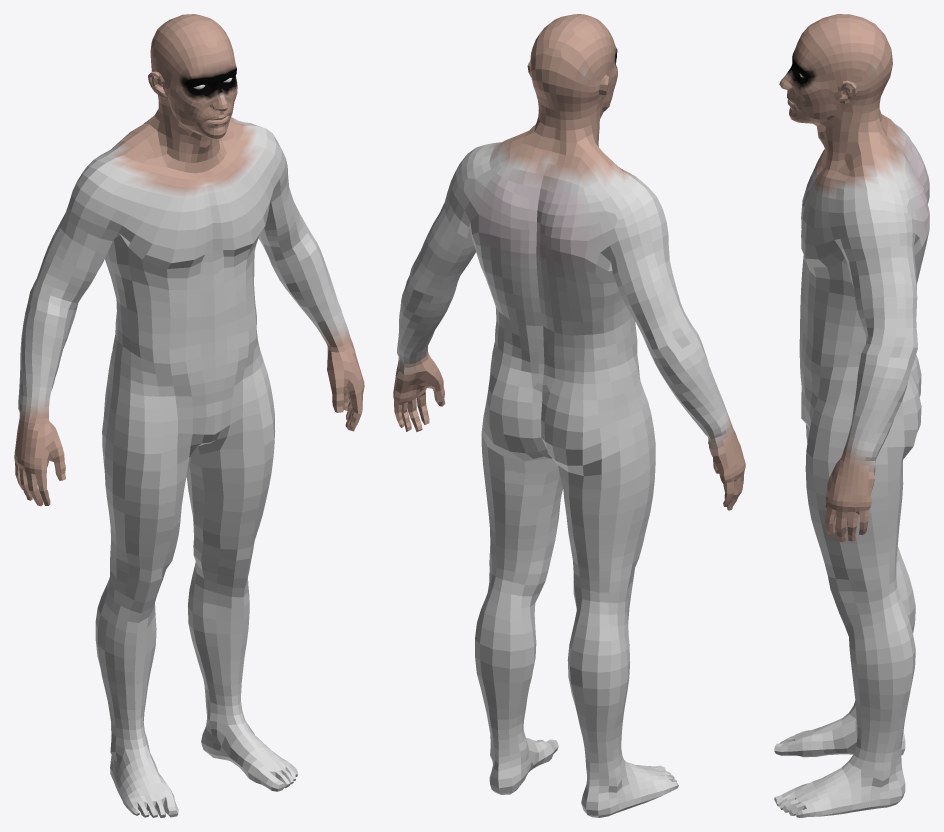
The picture shows the model from 3 angles, left to right: view 1: azimuth 30°, elevation 25°; view 2: azimuth 150°, elevation 25°; view 3: azimuth 270°, elevation 25°; orthographic projection.
Parts seen in each view (by area): view 1: LowPoly; view 2: LowPoly; view 3: LowPoly.
Boxes of the visible parts, x1,y1,x2,y2 form: LowPoly: [14, 14, 364, 817]; LowPoly: [393, 14, 745, 817]; LowPoly: [774, 14, 929, 817].
Bounding box in the file's own units: 84.04 × 180 × 33.27.
